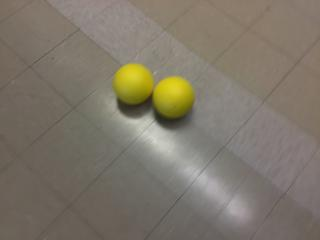power_cell: (152, 74, 198, 120), (112, 63, 154, 106)
